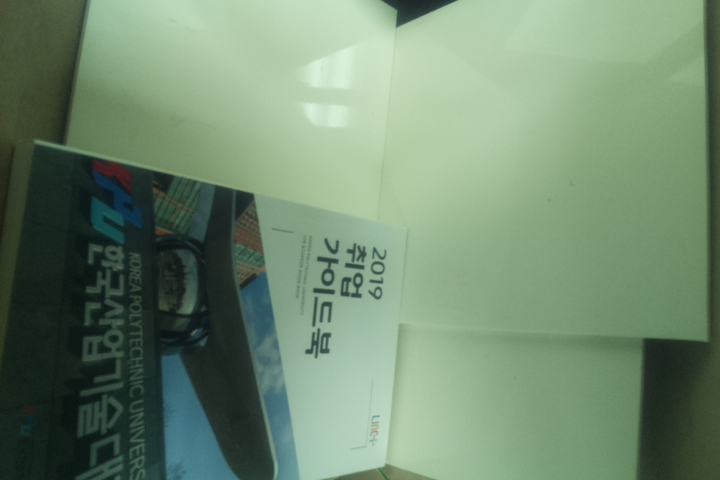book: (1, 133, 410, 480)
